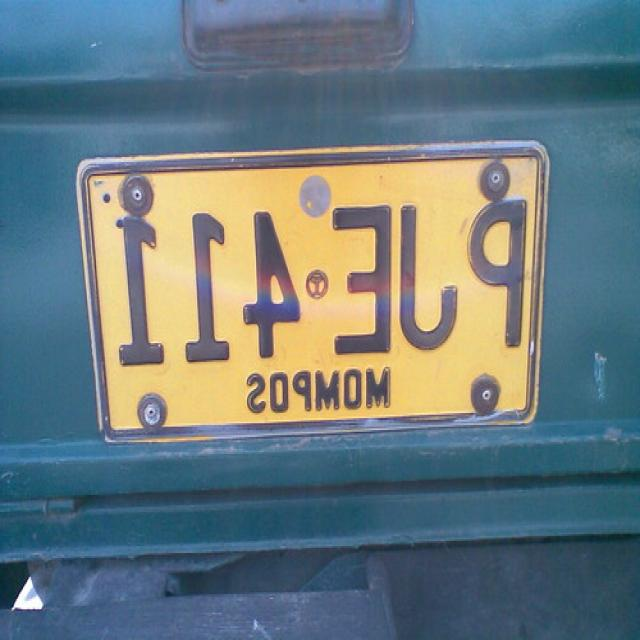placas: (87, 149, 545, 365)
